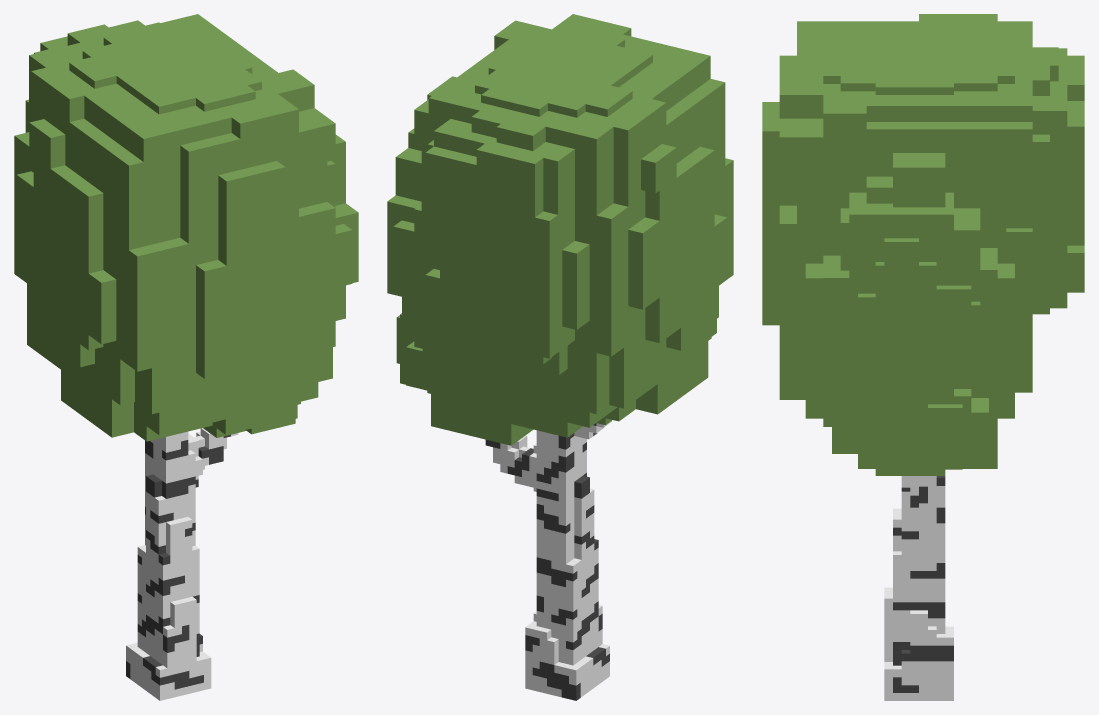
The model's file is BeesAndTrees-13.obj.
3 renders of one model, left to right at view 1: azimuth 30°, elevation 25°; view 2: azimuth 150°, elevation 25°; view 3: azimuth 270°, elevation 25°, orthographic. The views are drawn at different scales.
Size of the model in its own units: 3.6 by 8 by 3.7.
1 material, 1 textured.
